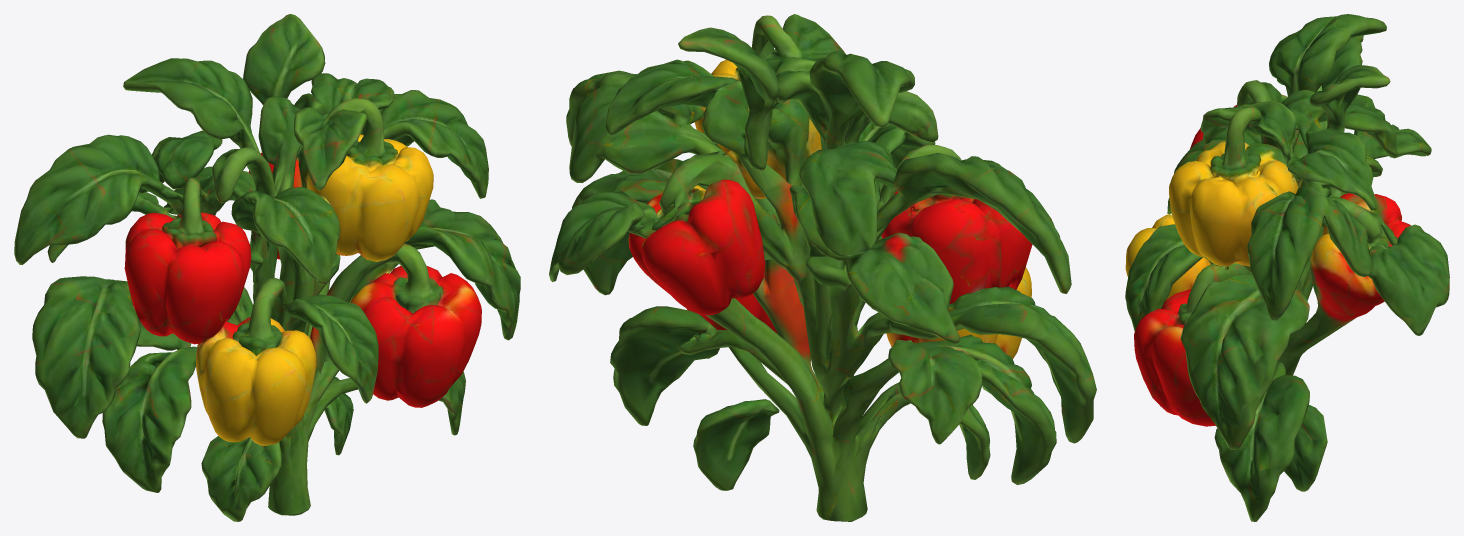
The model's file is pepper-mature.glb.
The picture shows the model from 3 angles, left to right: view 1: azimuth 30°, elevation 25°; view 2: azimuth 150°, elevation 25°; view 3: azimuth 270°, elevation 25°; orthographic projection. The views are drawn at different scales.
Size of the model in its own units: 1.9 by 1.7 by 1.17.
Materials: 1 (1 with a texture image).
